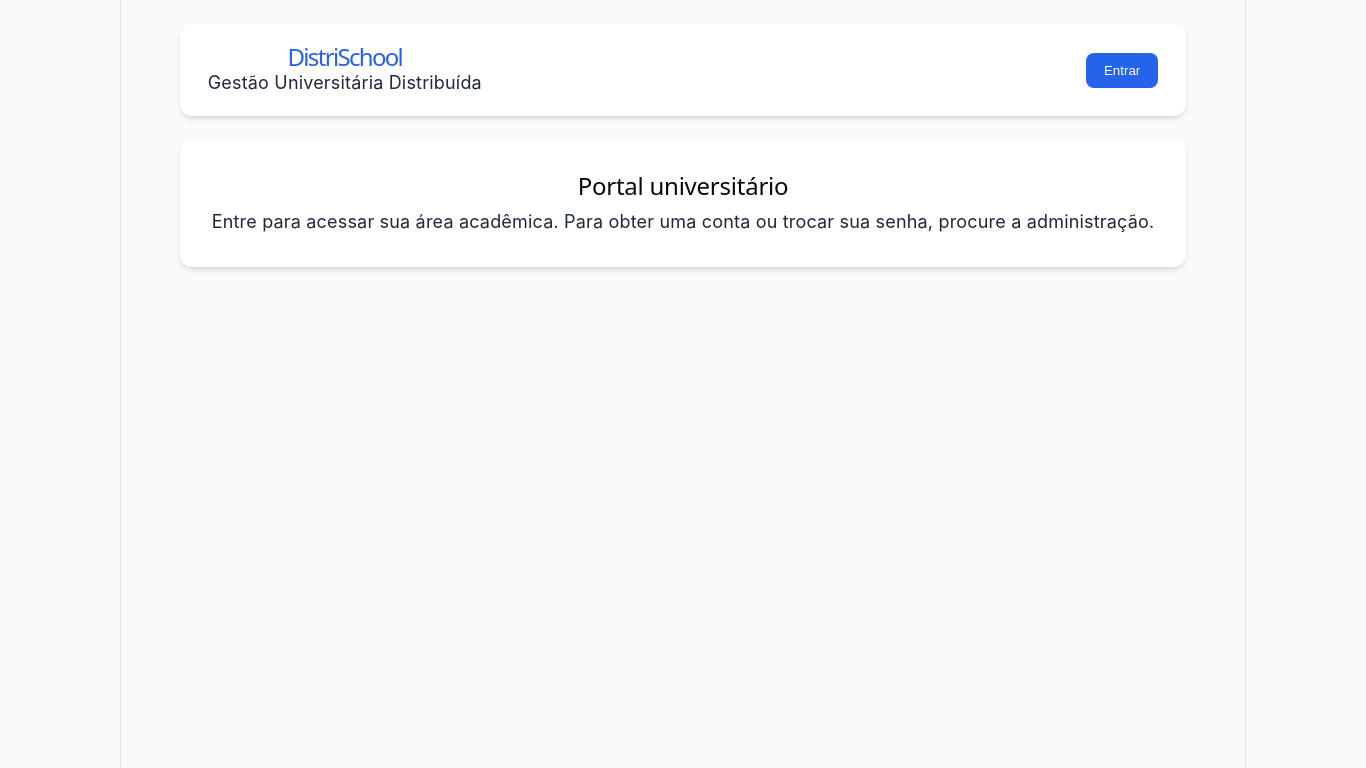
it: Autenticação global › mantém o modal e informa erro em login inválido
Click the button "Entrar": (1122, 70) [1086,53,1158,88]
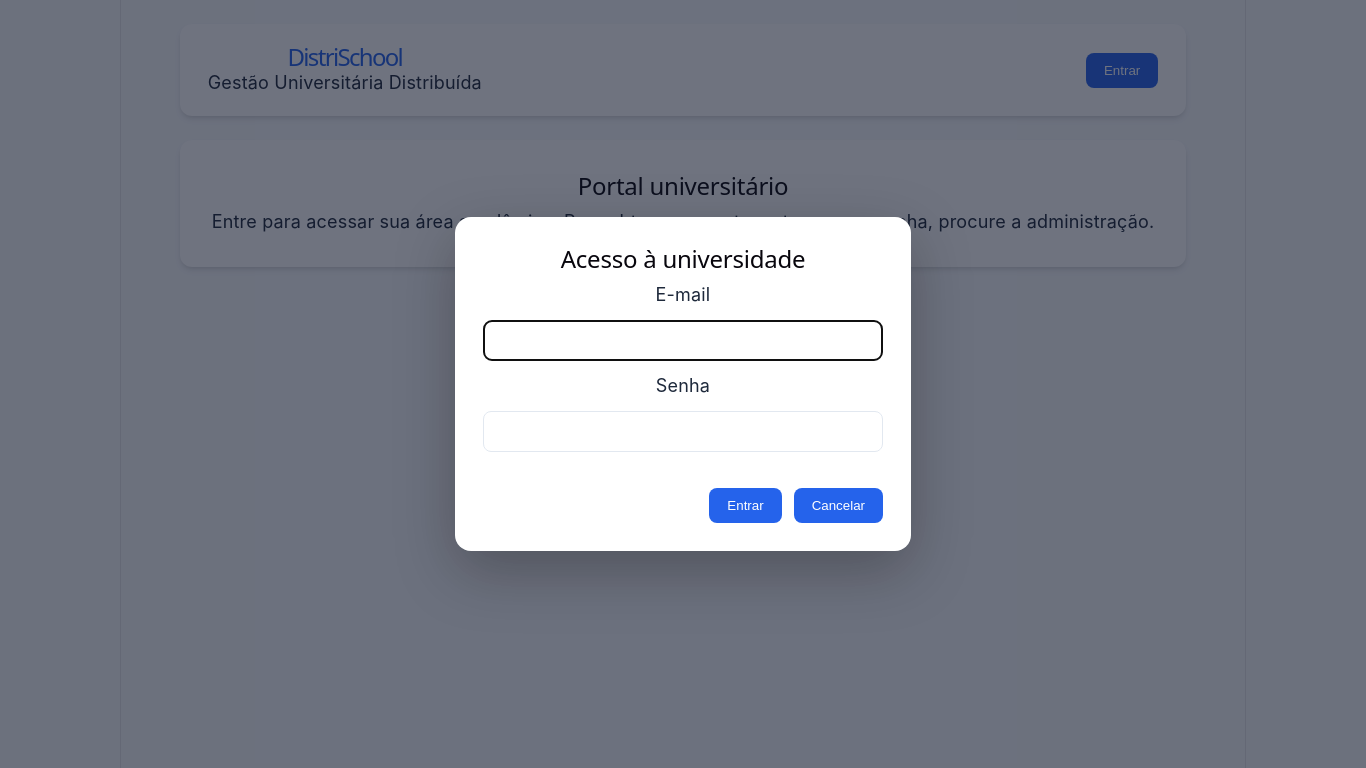
In the field labelled "E-mail": (683, 340) [483,320,883,361], type "ana@universidade.edu"
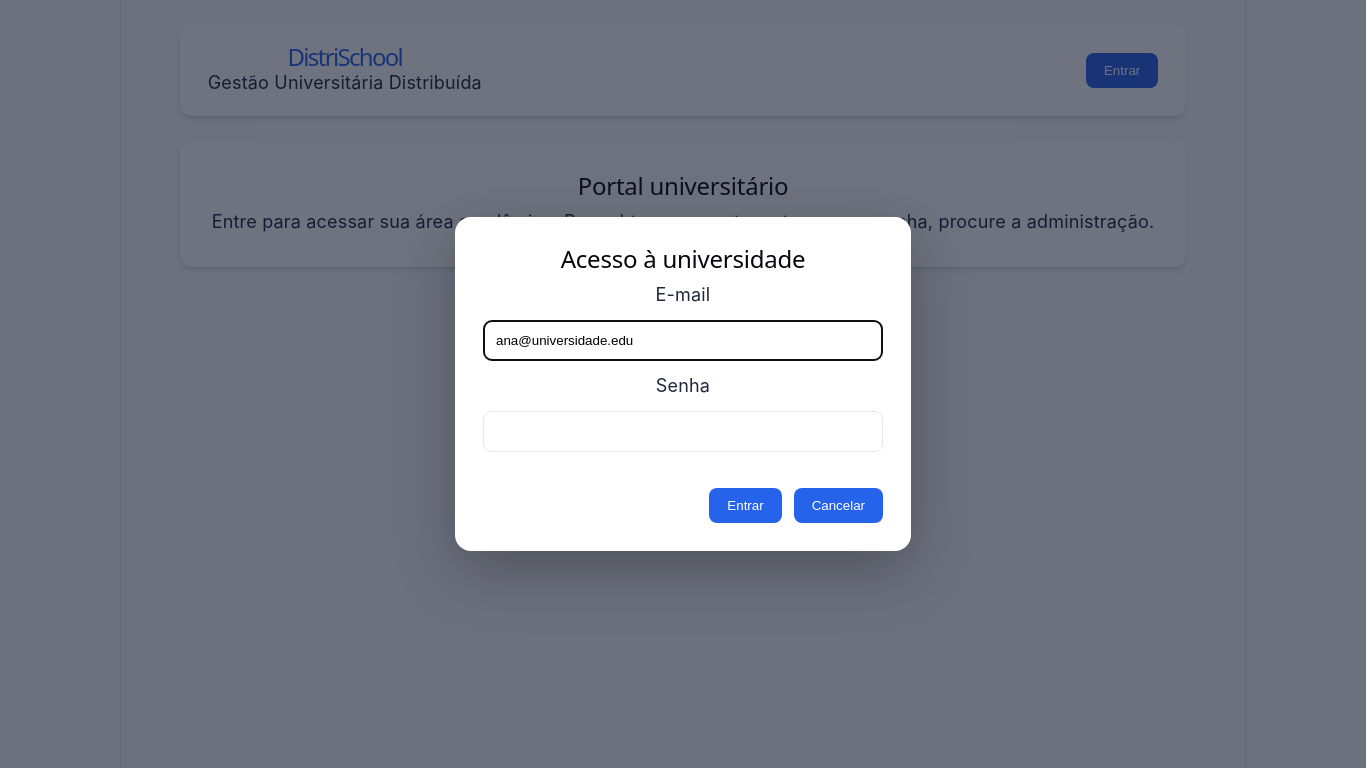
In the password field labelled "Senha": (683, 431) [483,411,883,452], type "errada"
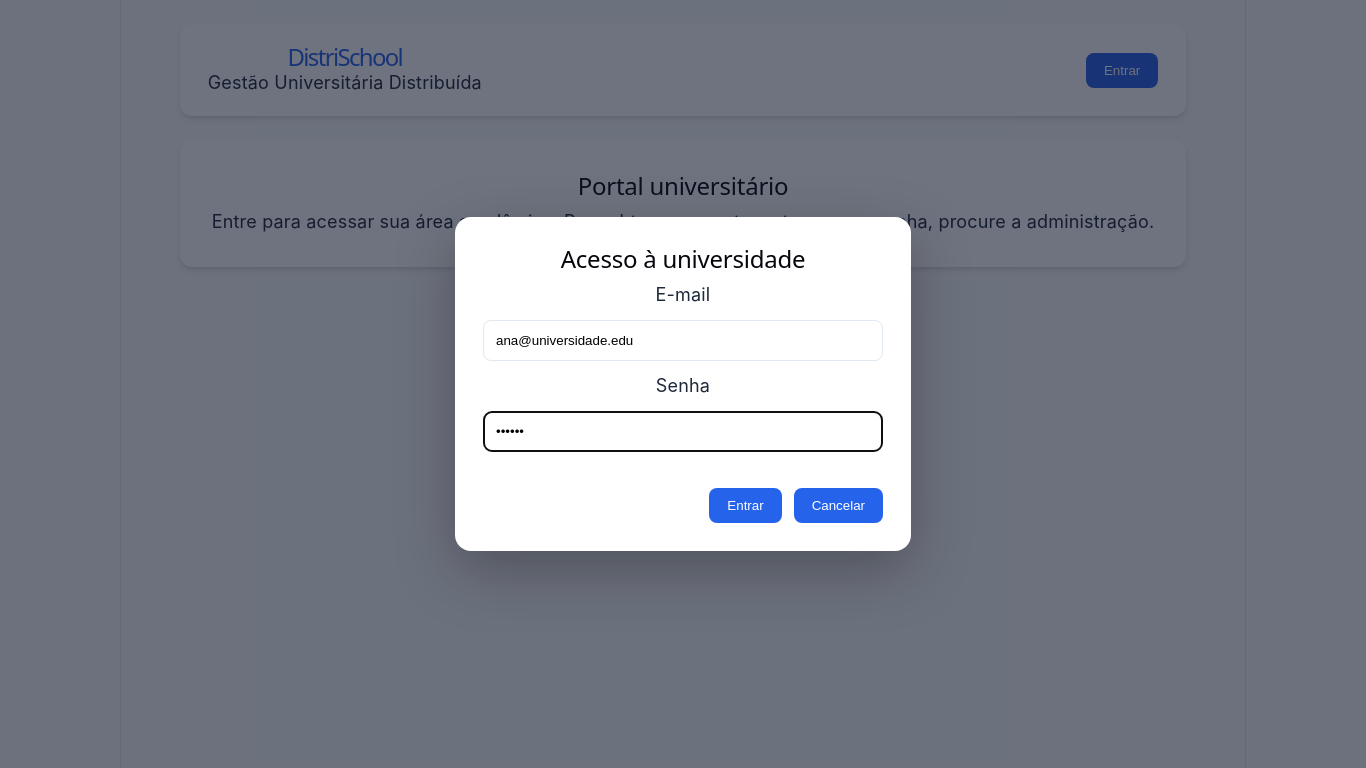
Click the button "Entrar": (746, 505) [709,488,782,523]
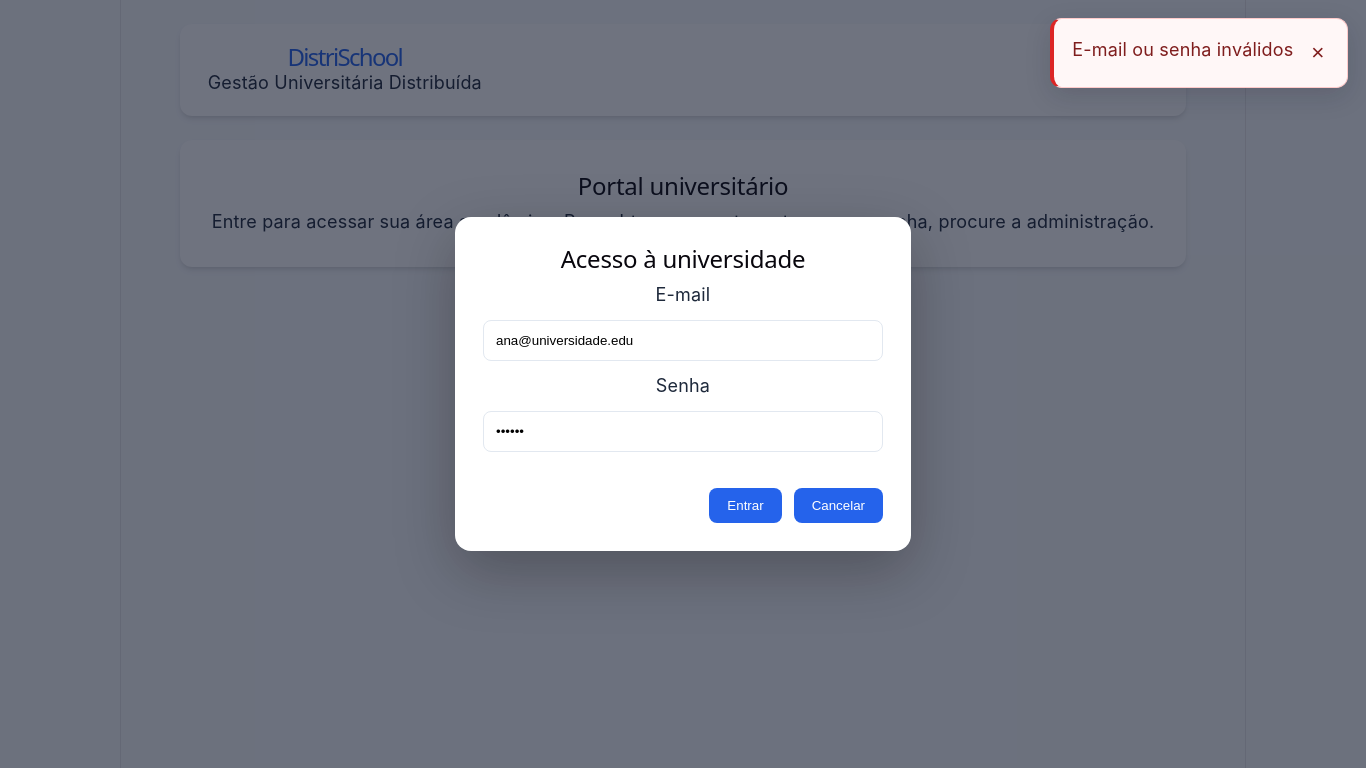
Expected: the dialog is shown, [455,217,911,551]
Expected: the message reads "E-mail ou senha inválidos", [1072,39,1293,60]
